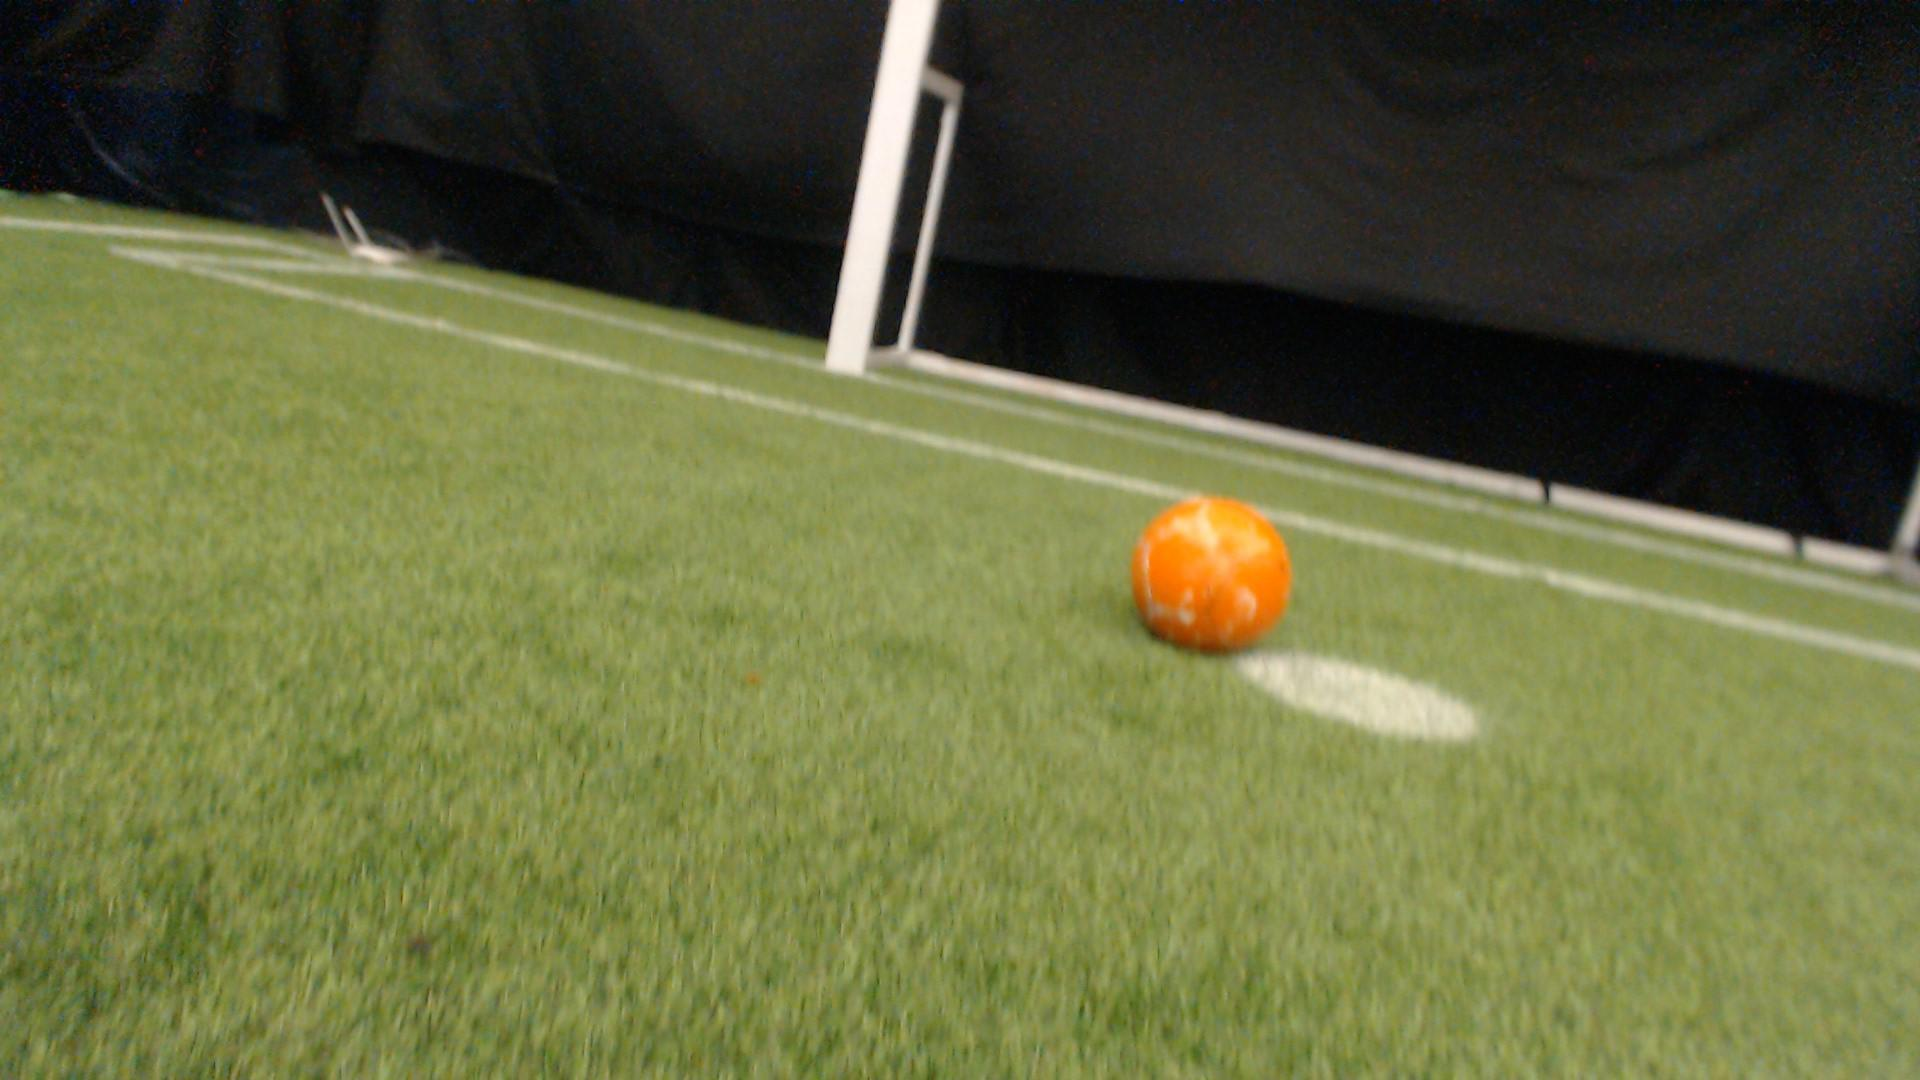bola: (1118, 487, 1317, 666)
